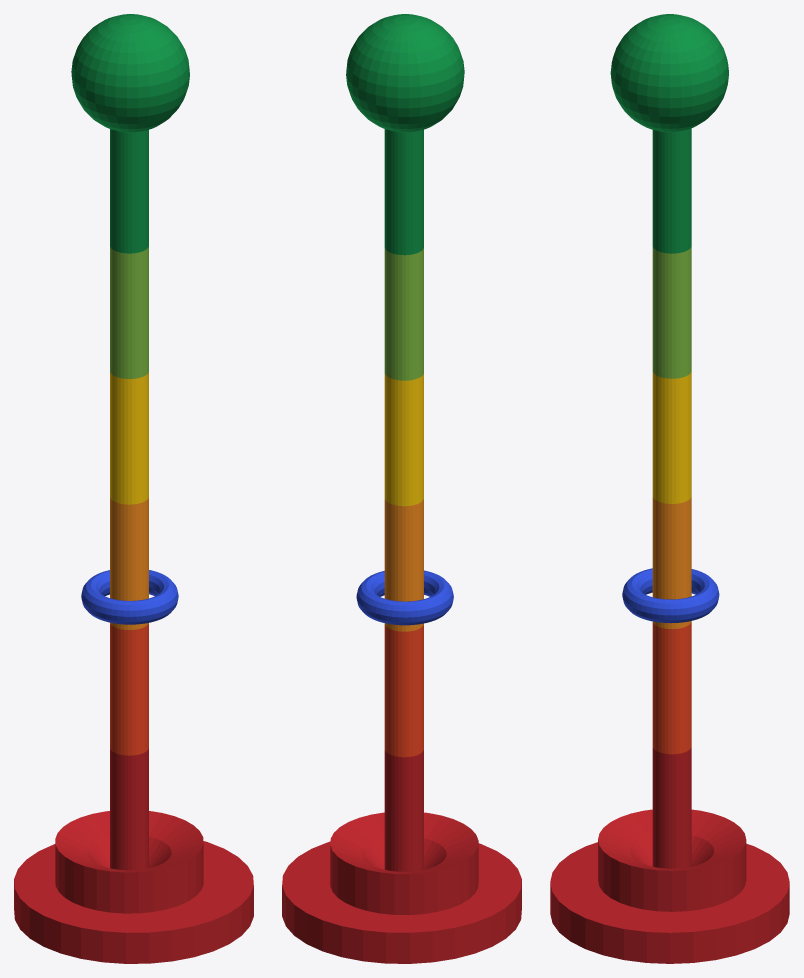
File: FinishScene1.fbx
3 views of the same model, side by side, from view 1: azimuth 30°, elevation 25°; view 2: azimuth 150°, elevation 25°; view 3: azimuth 270°, elevation 25° (orthographic).
Visible parts, largest first — view 1: Cylinder, Torus.001; view 2: Cylinder, Torus.001; view 3: Cylinder, Torus.001.
Part boxes in pixels (x1,y1,x2,y2): Cylinder: [14, 14, 253, 963]; Torus.001: [81, 570, 178, 624]; Cylinder: [282, 14, 521, 963]; Torus.001: [356, 570, 453, 625]; Cylinder: [550, 14, 789, 963]; Torus.001: [622, 568, 719, 623].
Size of the model in its own units: 191 by 786 by 191.
